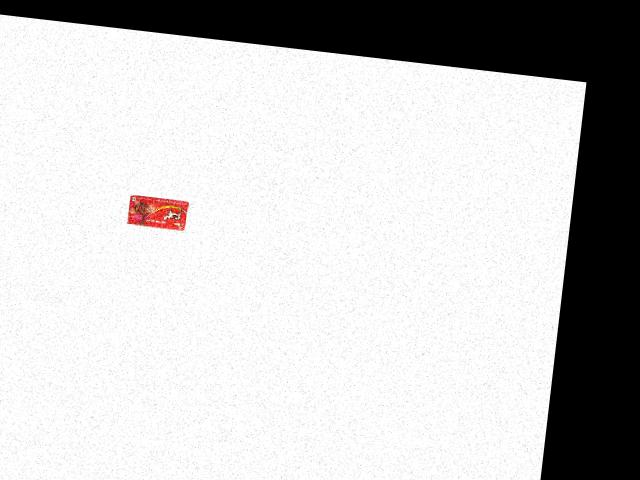chocolate: (126, 191, 192, 231)
